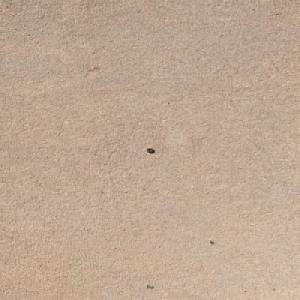Nut: (145, 147, 154, 152)
